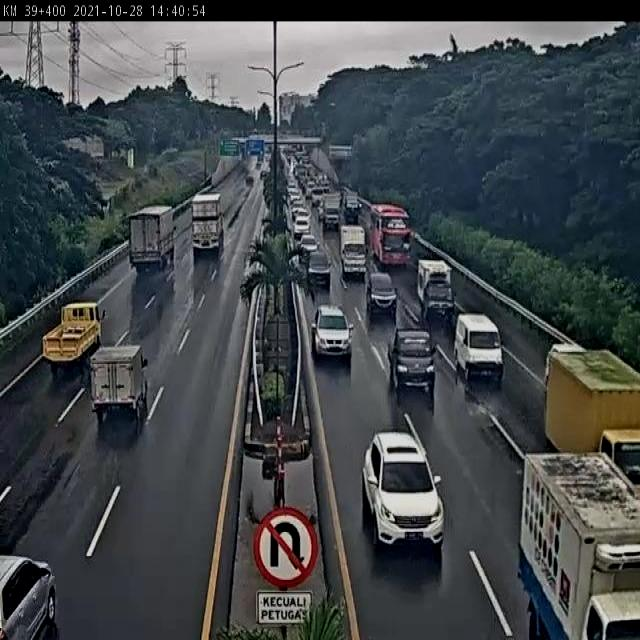Bus: (368, 202, 411, 268)
Car: (354, 418, 454, 562), (1, 554, 56, 639), (388, 326, 436, 401), (600, 428, 640, 492), (311, 304, 354, 363), (546, 343, 586, 387), (366, 270, 398, 320), (307, 250, 332, 290), (292, 210, 310, 242), (299, 233, 319, 261), (310, 186, 326, 210)
Truck: (513, 426, 639, 640), (537, 340, 639, 484), (88, 344, 149, 432), (41, 301, 103, 378), (127, 206, 177, 274), (417, 262, 455, 327), (191, 194, 225, 257), (339, 224, 367, 279), (322, 194, 342, 230)
Van: (454, 316, 504, 388)
